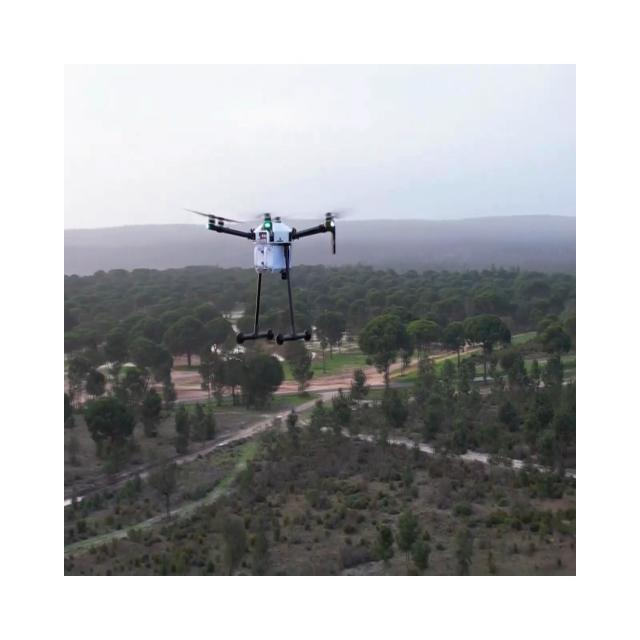drone: (182, 206, 352, 346)
